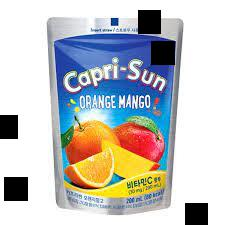cafrisun: (44, 16, 180, 219)
